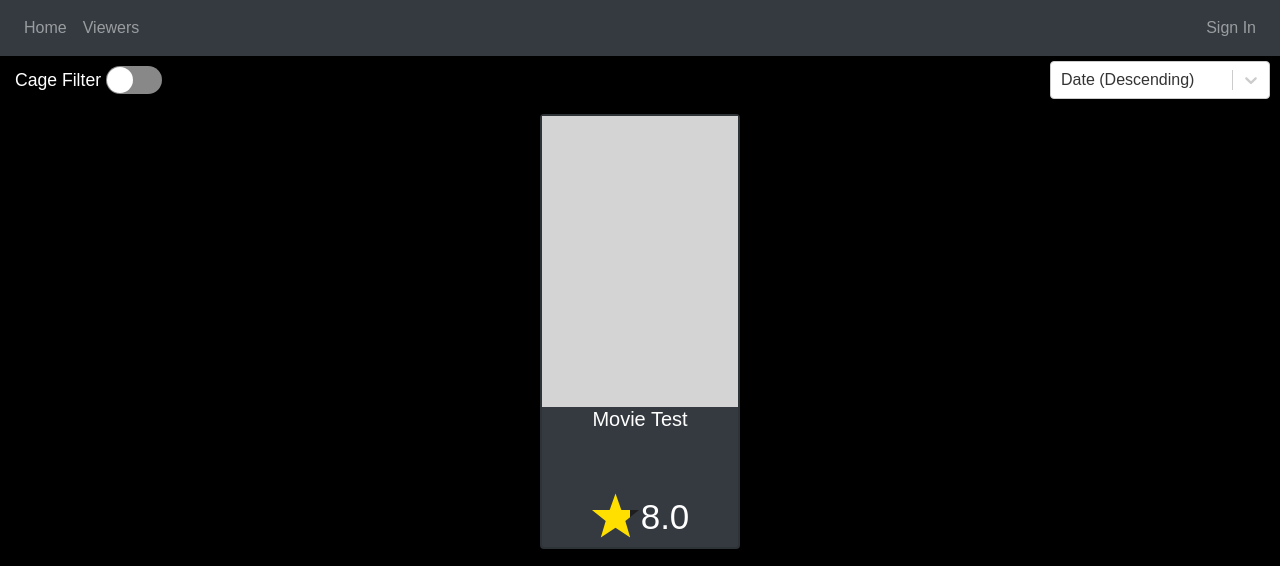
Scenario: App Comp › should map the viewers
This screenshot has width=1280, height=566.
Click the link "Viewers". click: (111, 28)
box: [83,19,139,36]
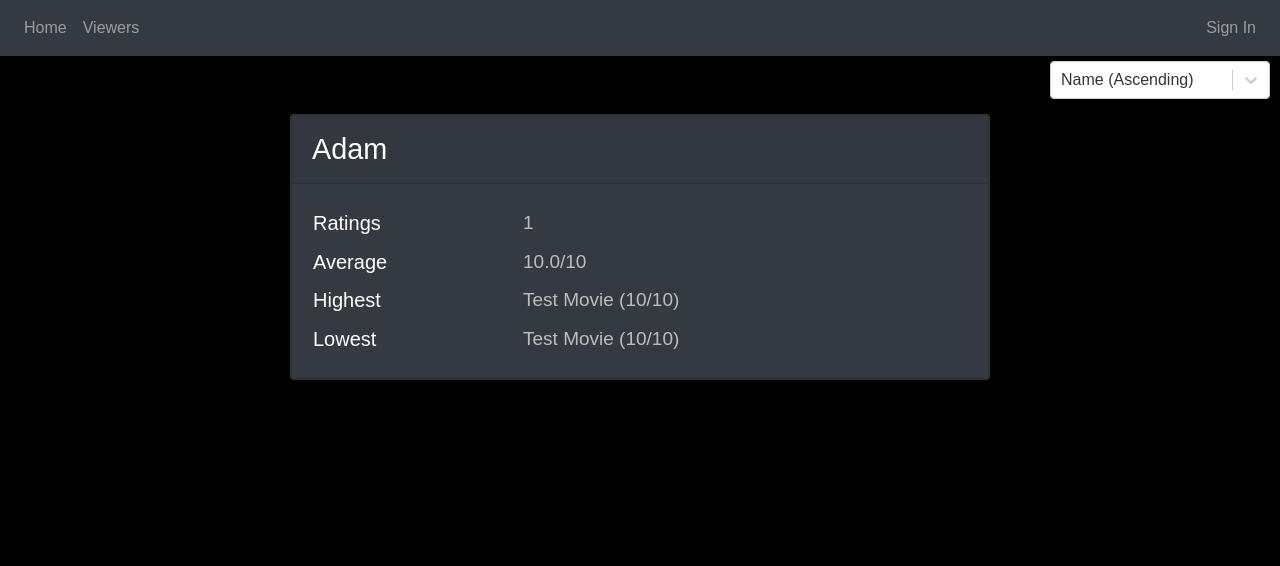
Check: the link "Adam" is shown, box [312,133,387,165]
